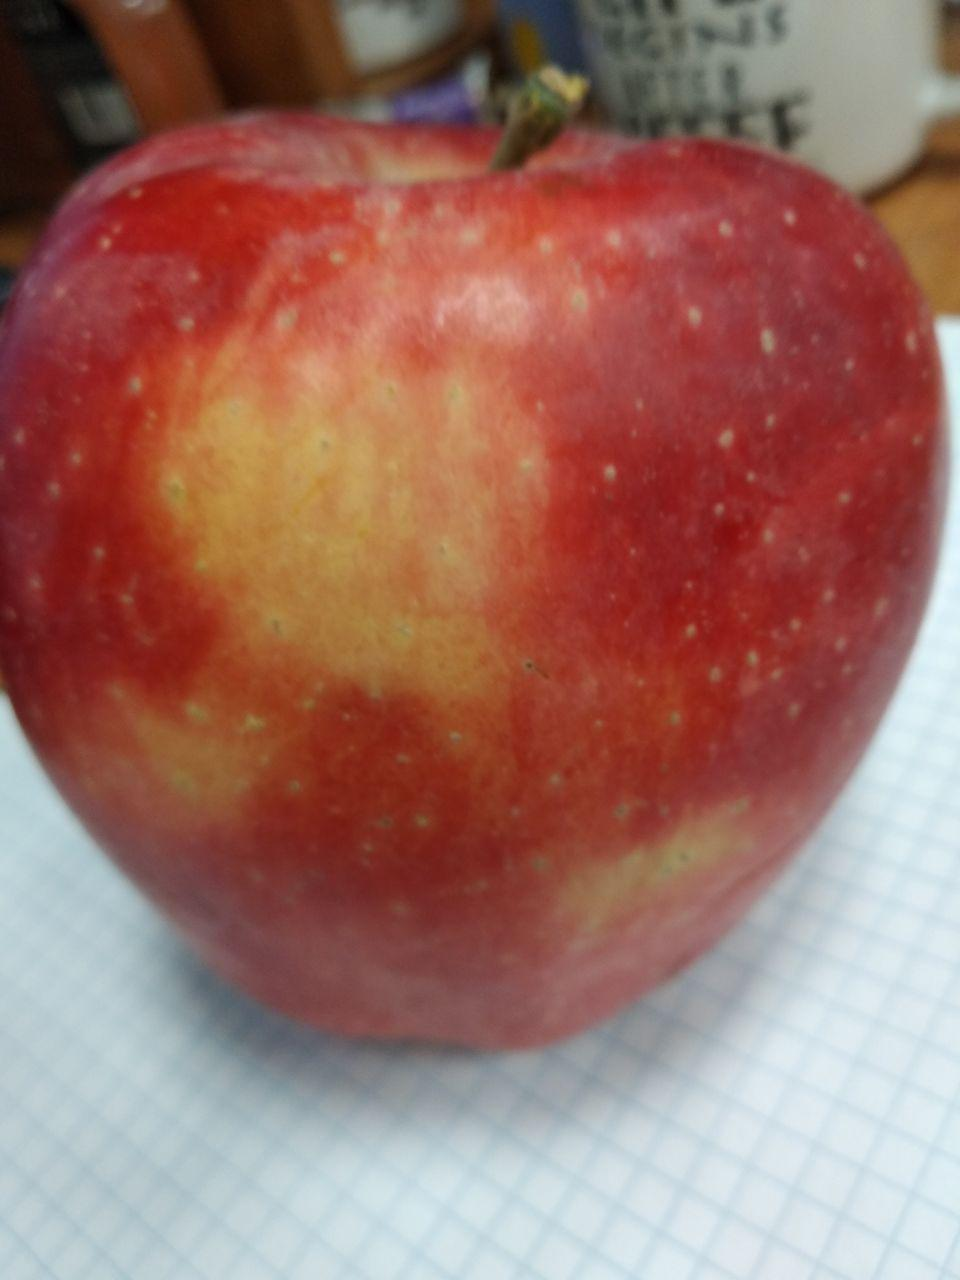Apple: (2, 119, 941, 1050)
